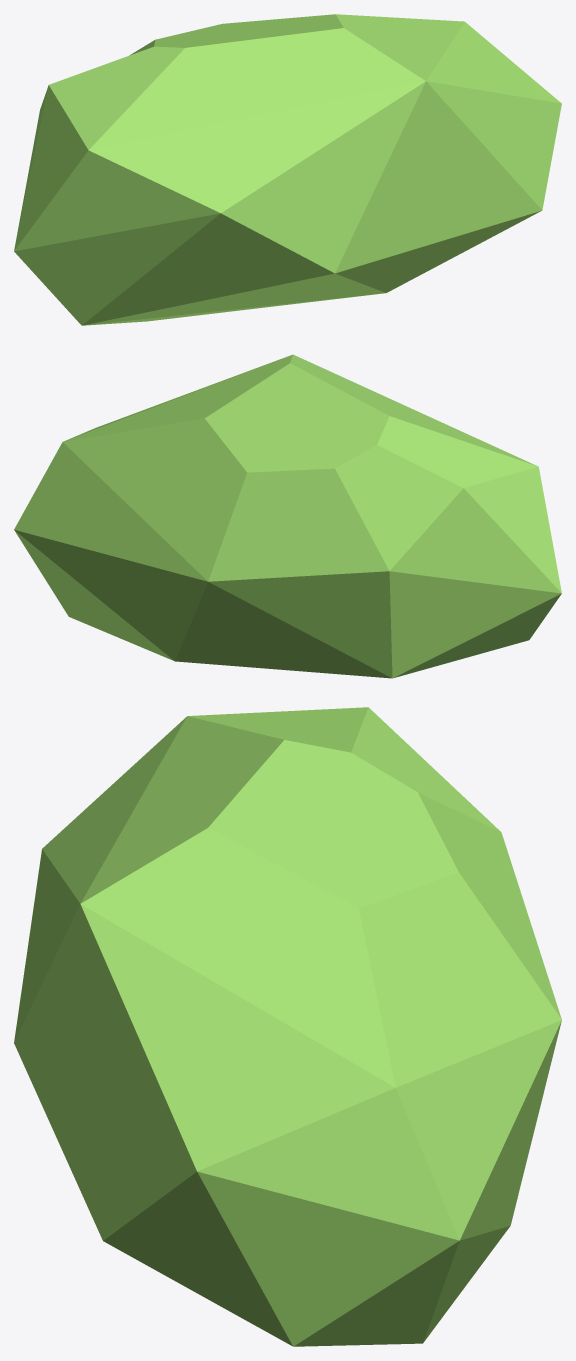
File: bush_2.fbx
3 views of the same model, one above another, from view 1: azimuth 30°, elevation 25°; view 2: azimuth 150°, elevation 25°; view 3: azimuth 270°, elevation 25° (orthographic). The views are drawn at different scales.
Parts seen in each view (by area): view 1: Icosphere.007; view 2: Icosphere.007; view 3: Icosphere.007.
Boxes of the visible parts, <box> form: Icosphere.007: <box>14,14,561,325</box>; Icosphere.007: <box>14,354,561,678</box>; Icosphere.007: <box>14,707,561,1346</box>.
Size of the model in its own units: 300 by 147 by 181.
